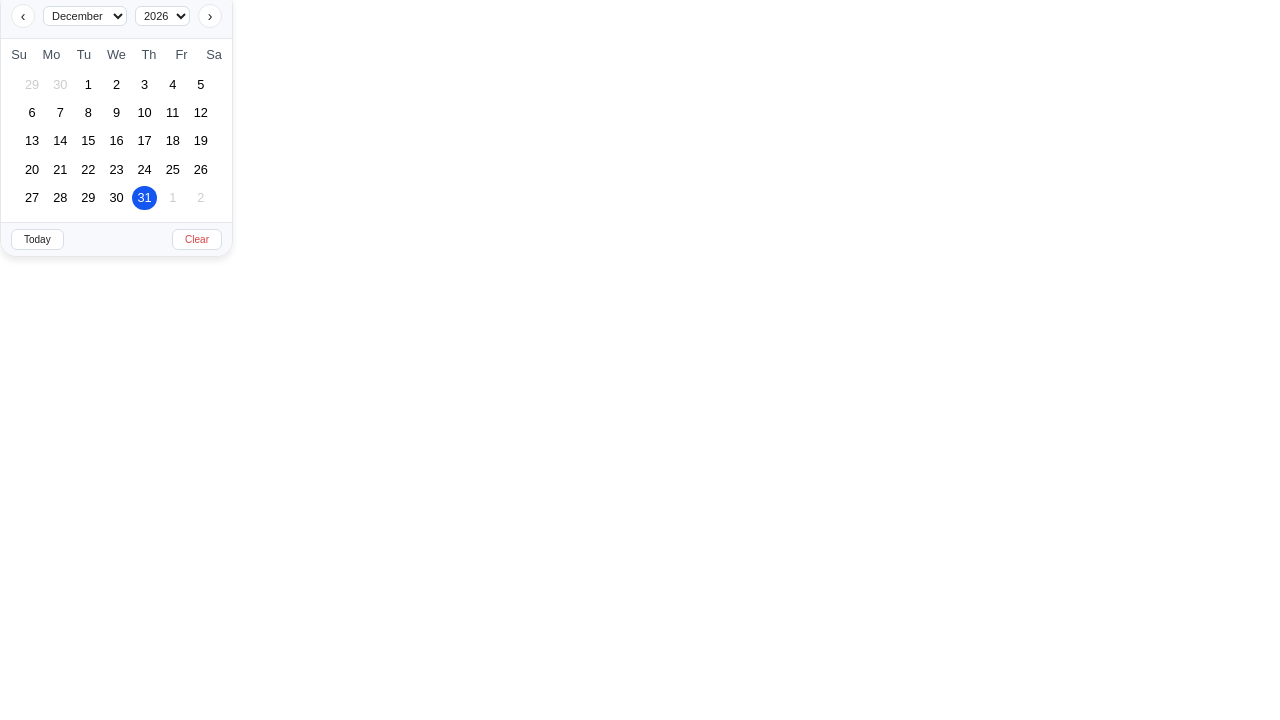
Test case: DatePopup › changes months without selecting or committing a date
Click the button named "Next month" at (210, 16), box [198, 4, 222, 28]
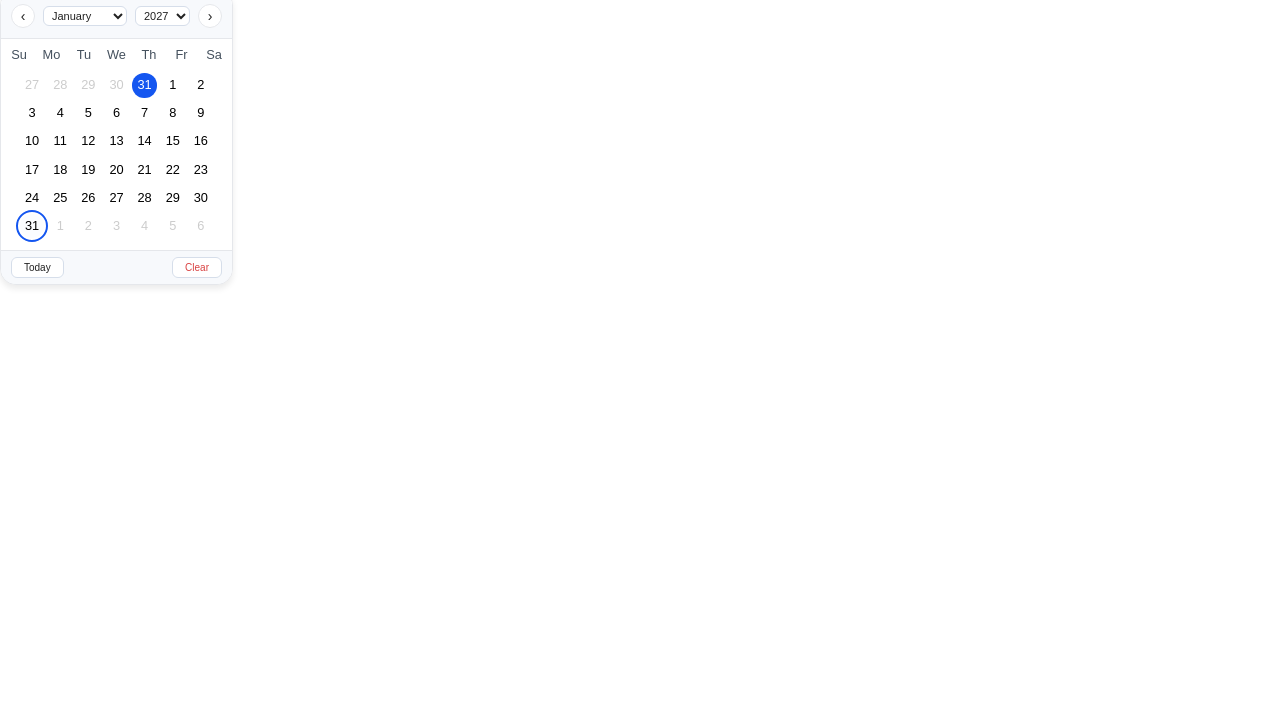
Check: the dropdown named "Year" shows "2027", box [135, 6, 190, 26]
Check: the dropdown named "Month" shows "January", box [43, 6, 127, 26]
Click the button named "Previous month" at (23, 16), box [11, 4, 35, 28]
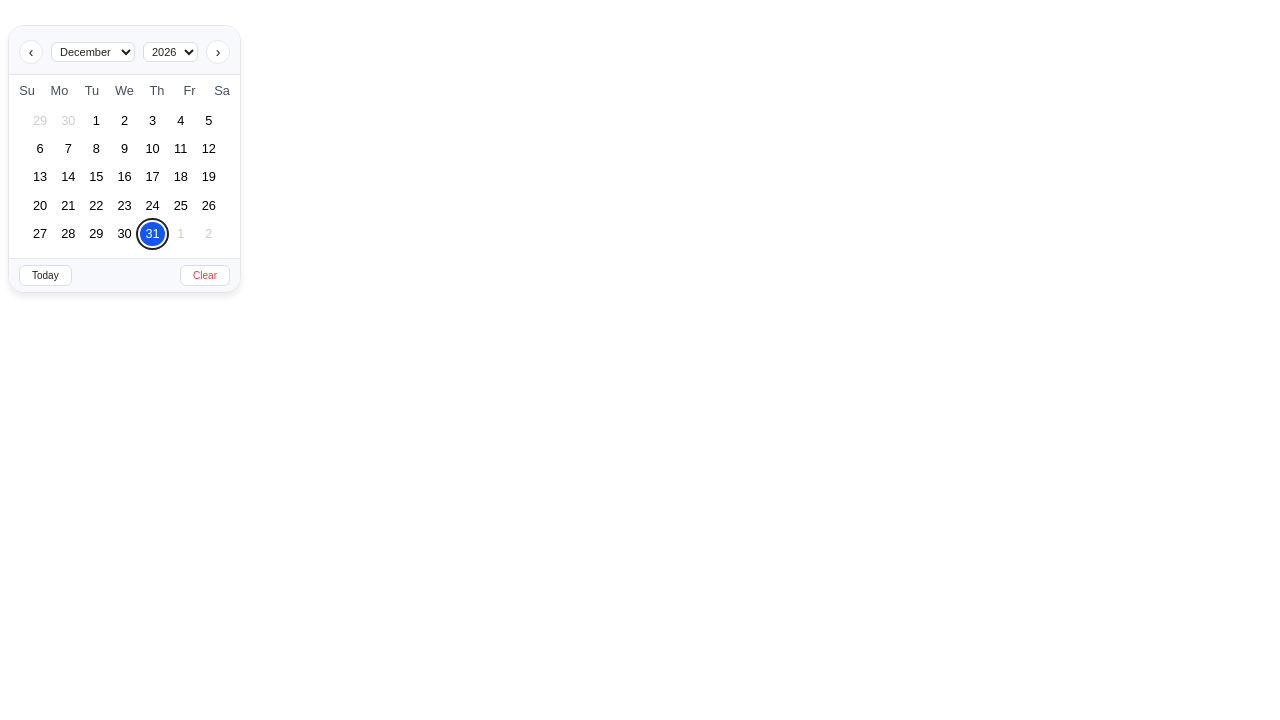
Check: the dropdown named "Year" shows "2026", box [143, 42, 198, 62]
Check: the dropdown named "Month" shows "December", box [51, 42, 135, 62]
